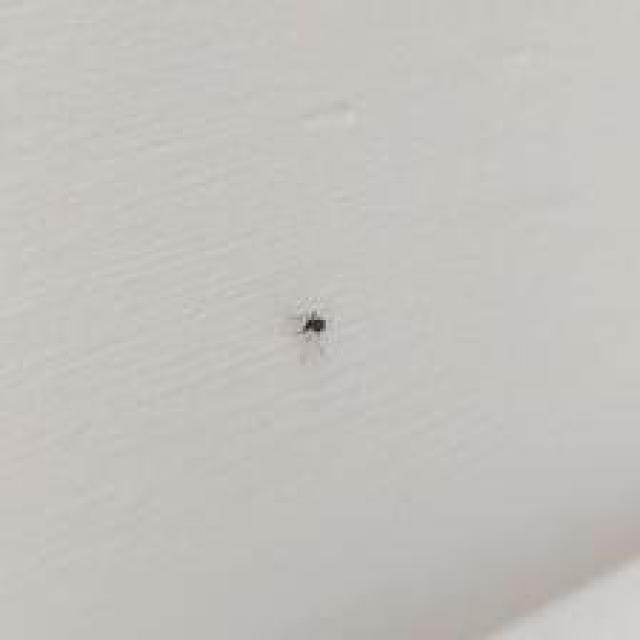Aedes albopictus: (300, 309, 326, 337)
